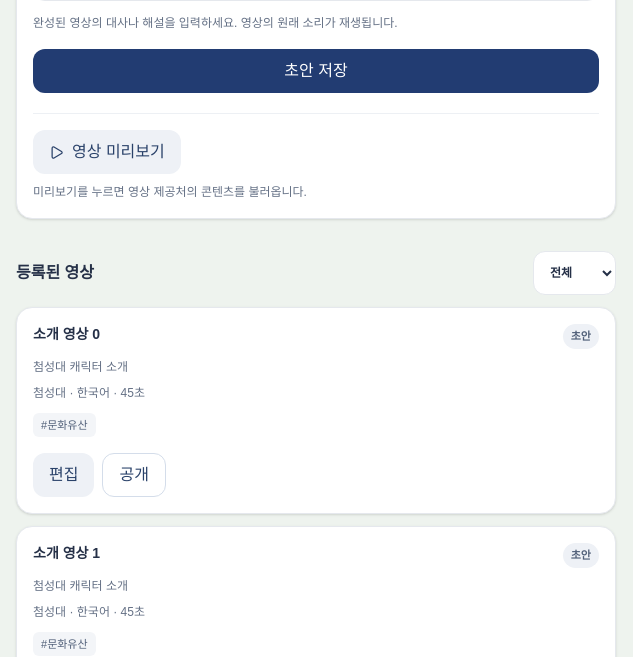
Test: prepared heritage video administration › refreshes filtered pagination after publishing so the next unseen draft is not skipped
(page scrolled)
Select "초안" in the dropdown named "공개 상태": (574, 273) [533,251,616,295]
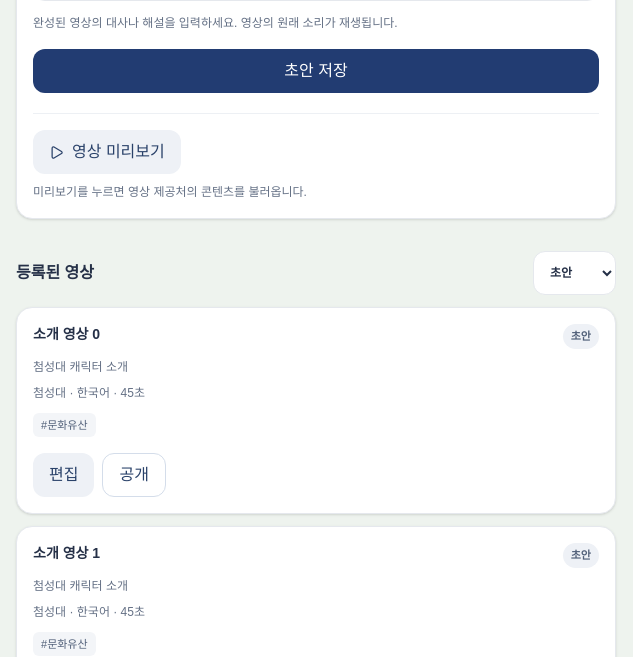
Click the button "공개": (134, 475) [102,453,166,497]
(page scrolled)
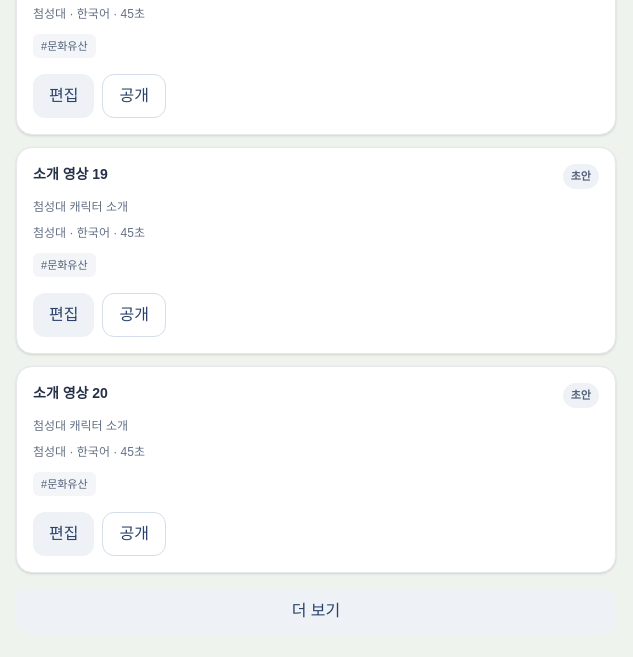
Expected: the heading "소개 영상 20" is shown, [33,383,108,403]
Expected: the heading "소개 영상 0" is gone
Click the button "더 보기": (316, 611) [16,589,616,633]
(page scrolled)
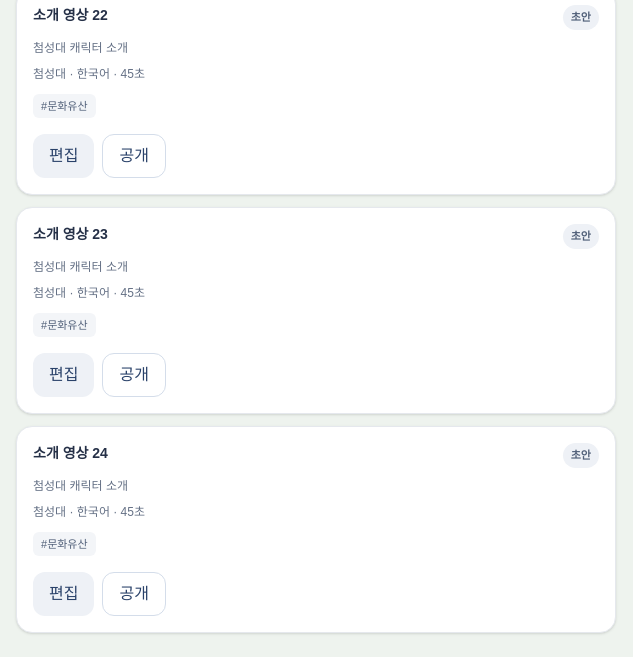
Expected: the heading "소개 영상 24" is shown, [33,443,108,463]
